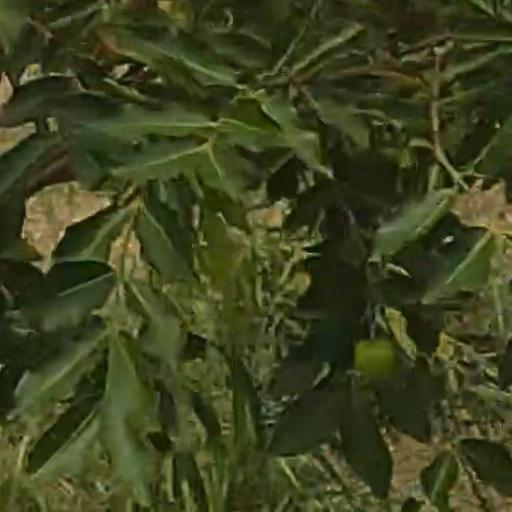acerola: (357, 340, 393, 380)
